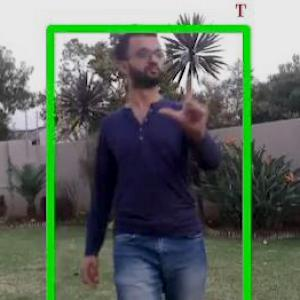land_hand: (156, 73, 212, 132)
